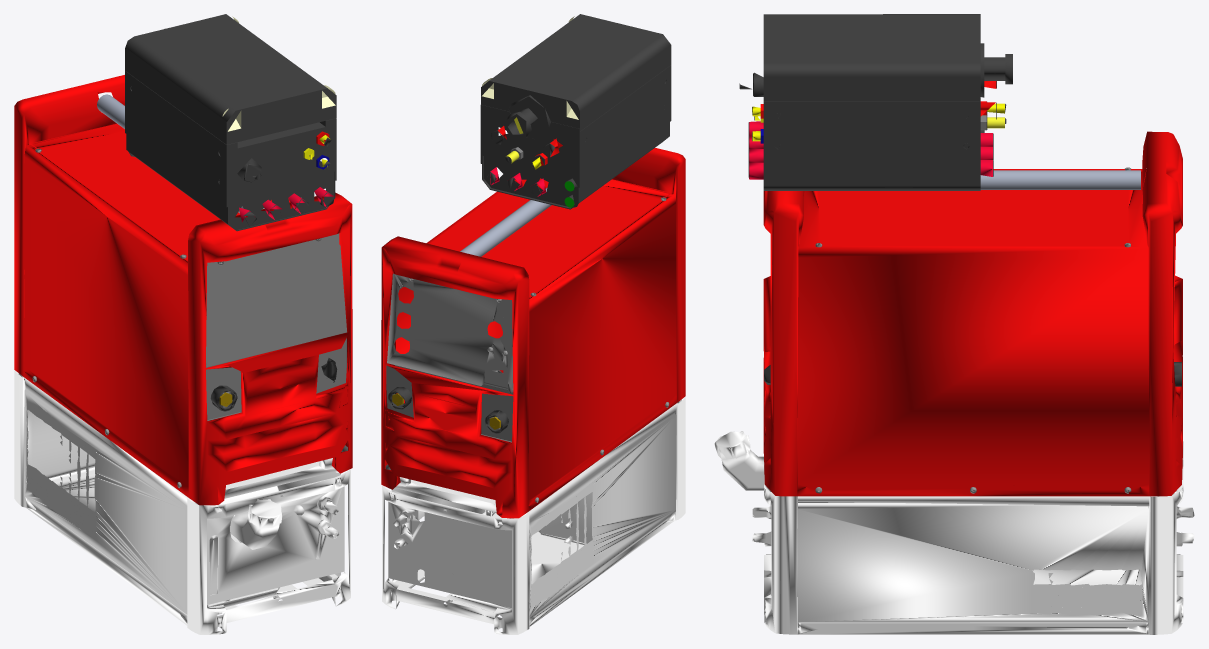
The model's file is welding-power-source.glb.
3 views of the same model, side by side, from view 1: azimuth 30°, elevation 25°; view 2: azimuth 150°, elevation 25°; view 3: azimuth 270°, elevation 25° (orthographic). The views are drawn at different scales.
Visible parts, largest first — view 1: part3, part0, part7, part1, part6, part12; view 2: part3, part0, part7, part1, part6; view 3: part3, part0, part7, part6, part12.
Boxes of the visible parts, left/top/right/bottom form: part3: left=14, top=75, right=352, bottom=505; part0: left=14, top=370, right=350, bottom=634; part7: left=125, top=14, right=337, bottom=411; part1: left=206, top=233, right=347, bottom=451; part6: left=97, top=94, right=264, bottom=213; part12: left=239, top=187, right=334, bottom=222; part3: left=381, top=126, right=685, bottom=518; part0: left=382, top=397, right=685, bottom=634; part7: left=388, top=14, right=671, bottom=433; part1: left=385, top=147, right=523, bottom=469; part6: left=460, top=187, right=551, bottom=256; part3: left=760, top=81, right=1182, bottom=496; part0: left=714, top=431, right=1194, bottom=634; part7: left=739, top=14, right=1181, bottom=386; part6: left=980, top=170, right=1140, bottom=189; part12: left=749, top=121, right=992, bottom=179.
Size of the model in its own units: 0.2889 by 0.9175 by 0.7152.
